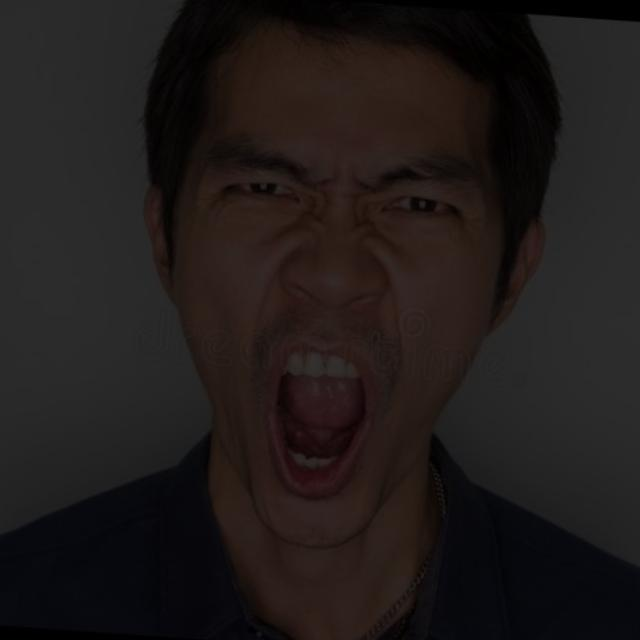angry: (123, 69, 570, 535)
